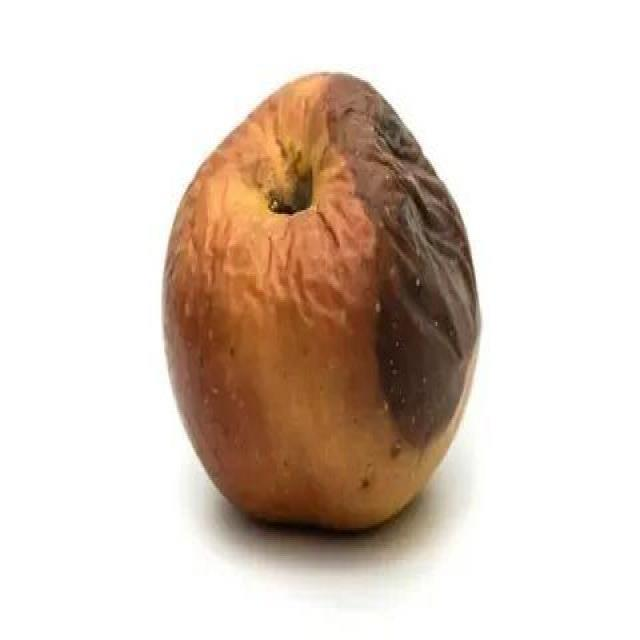Apple: (152, 65, 487, 540)
